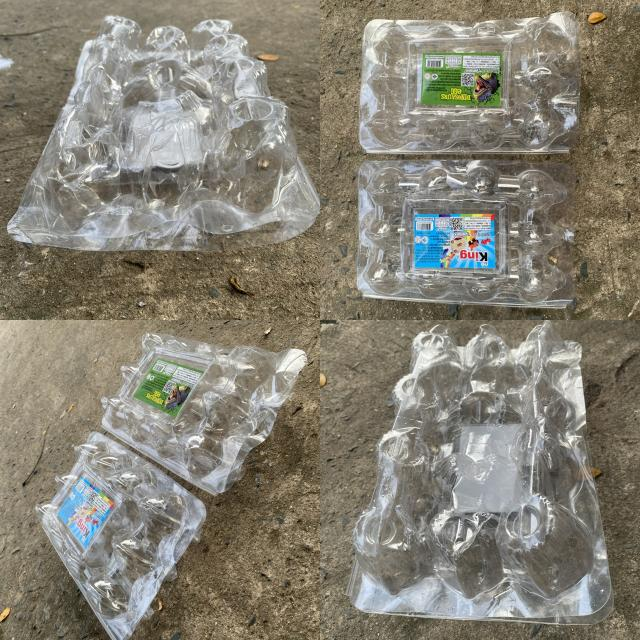Single-Use-Plastic: (348, 322, 612, 624), (8, 16, 319, 251), (36, 432, 206, 640), (101, 334, 306, 495), (356, 160, 575, 308), (359, 11, 580, 153)
